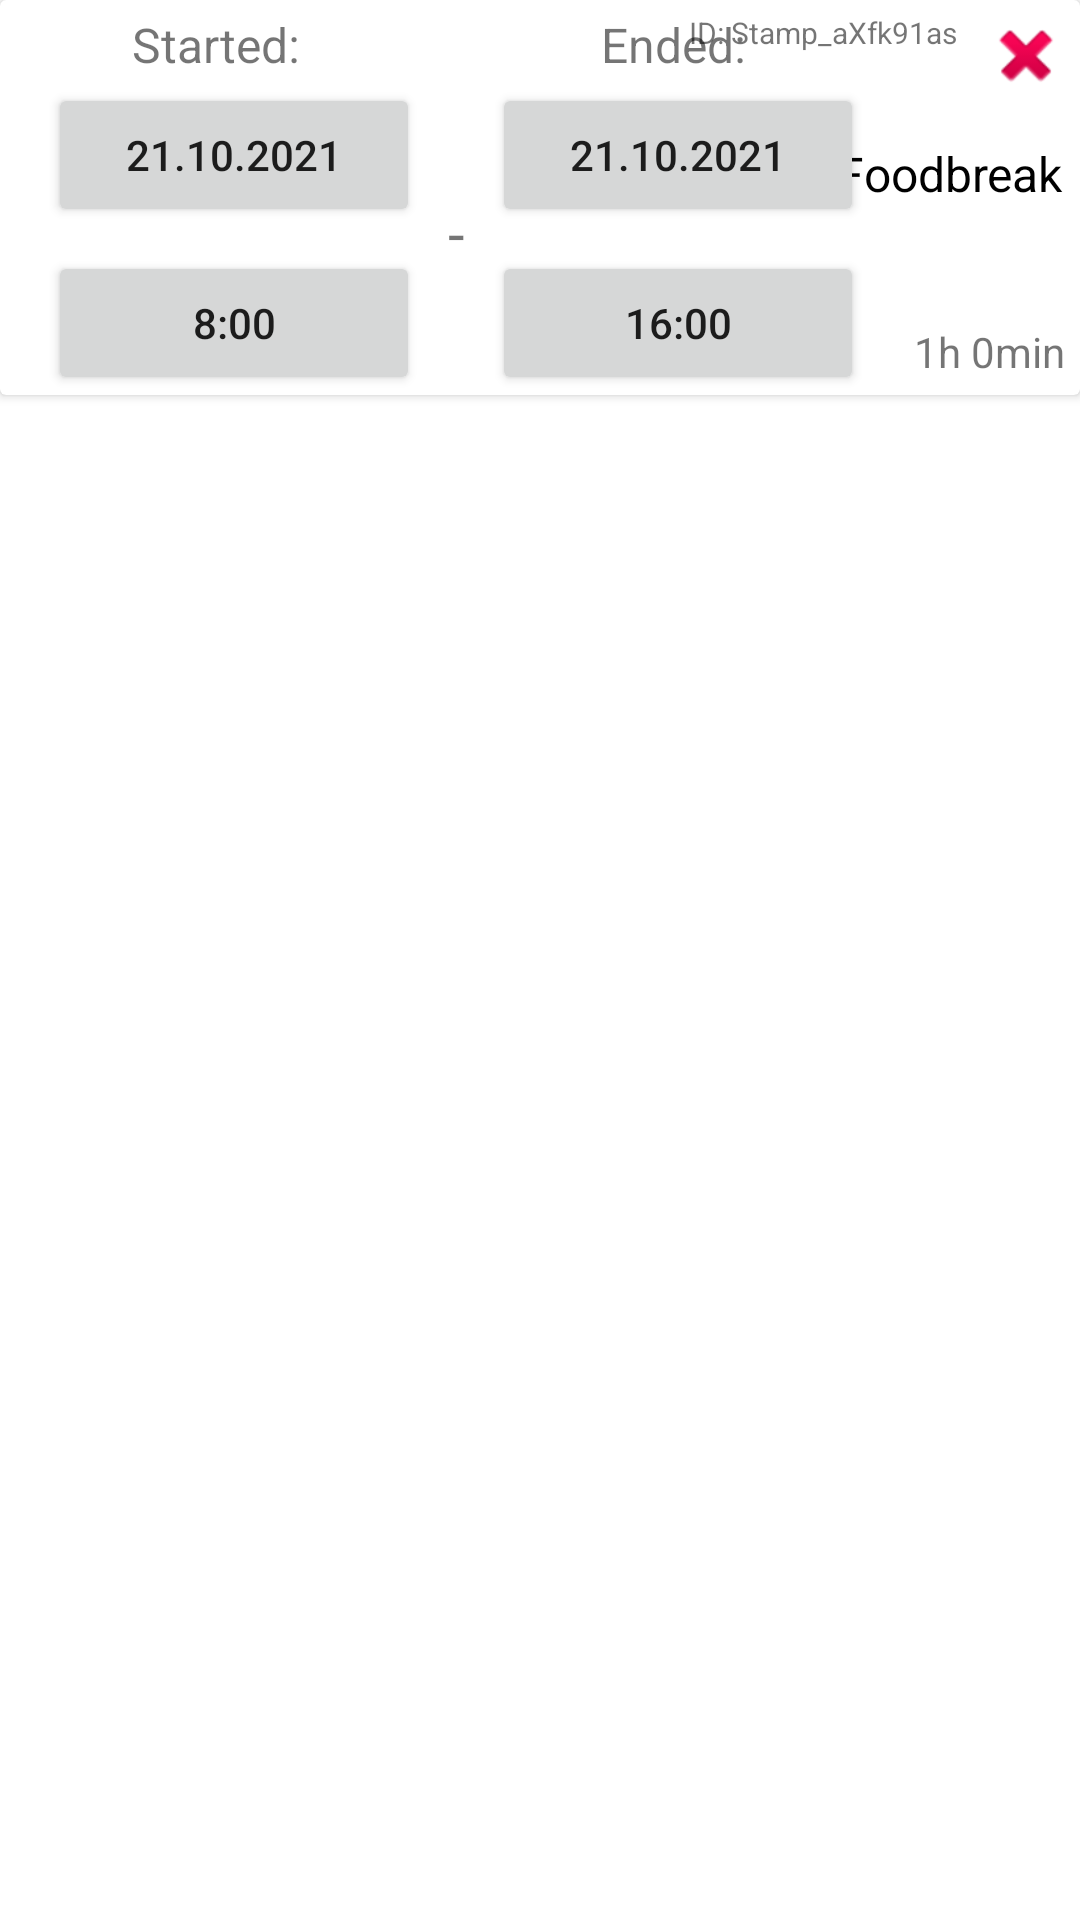

Point at icon controls on the screen. Image size 1080 x 1920, points as [x,y].
delete: [1026,56]
